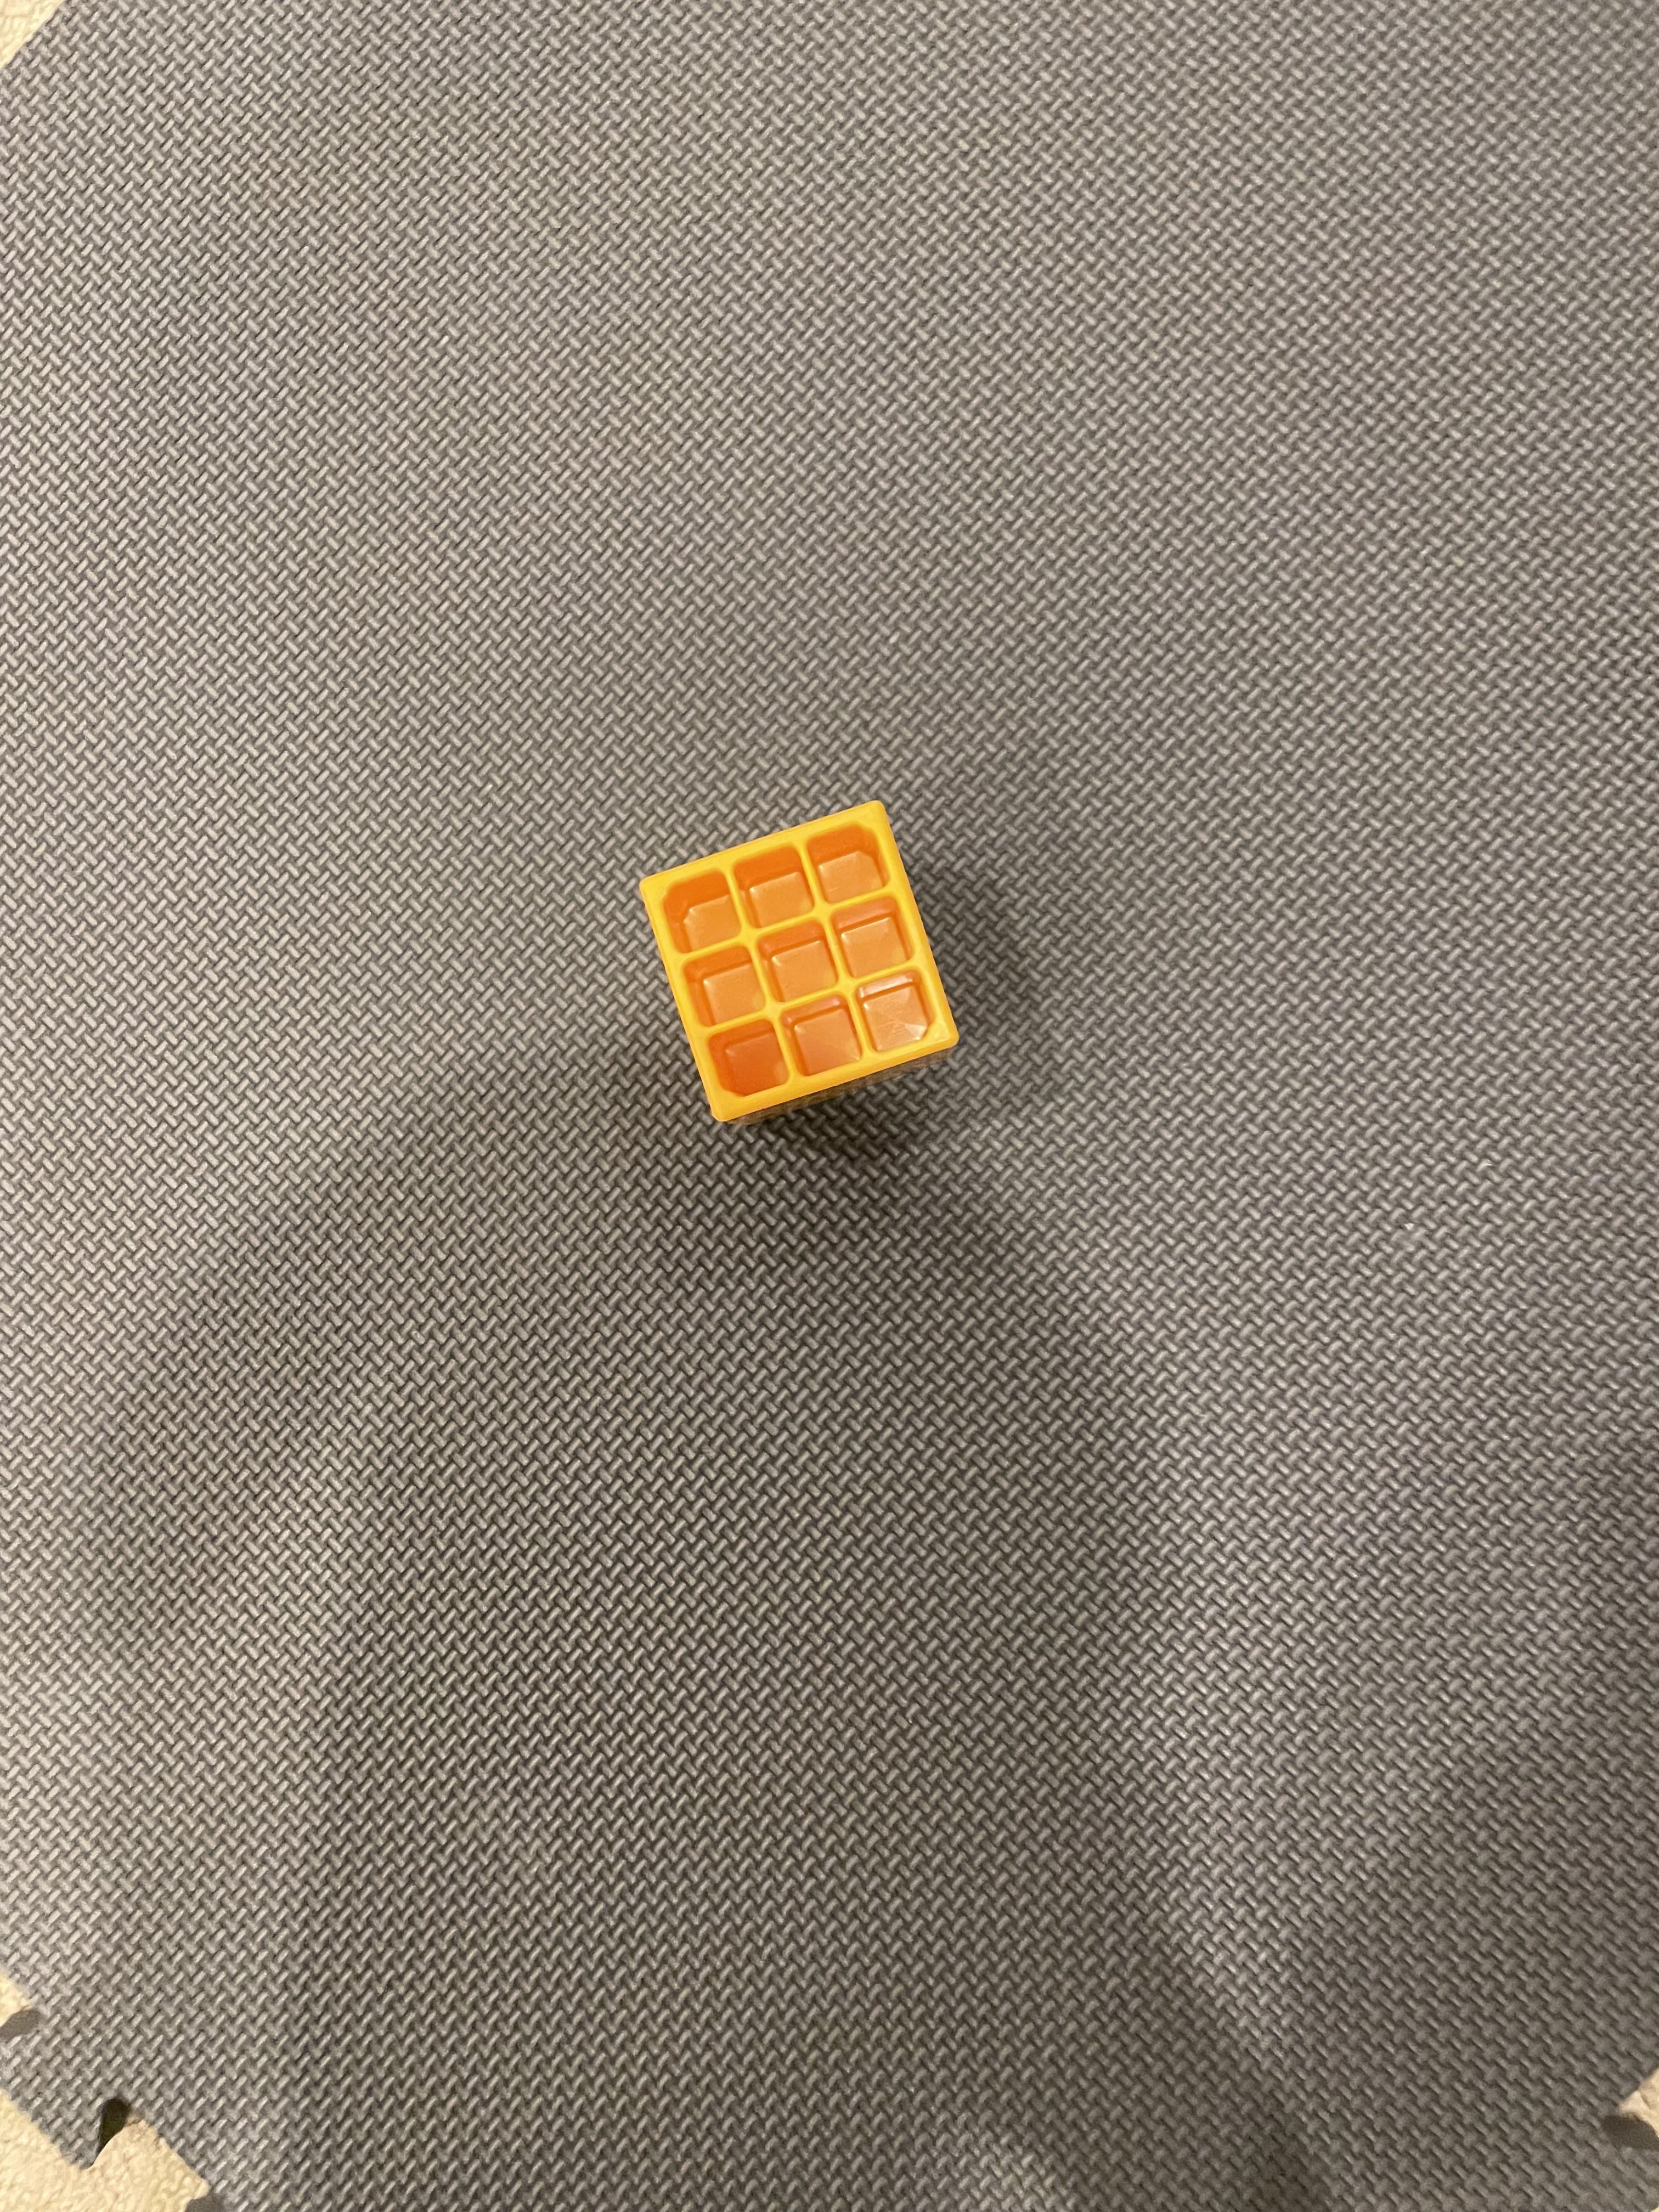cube: (572, 738, 1006, 1184)
